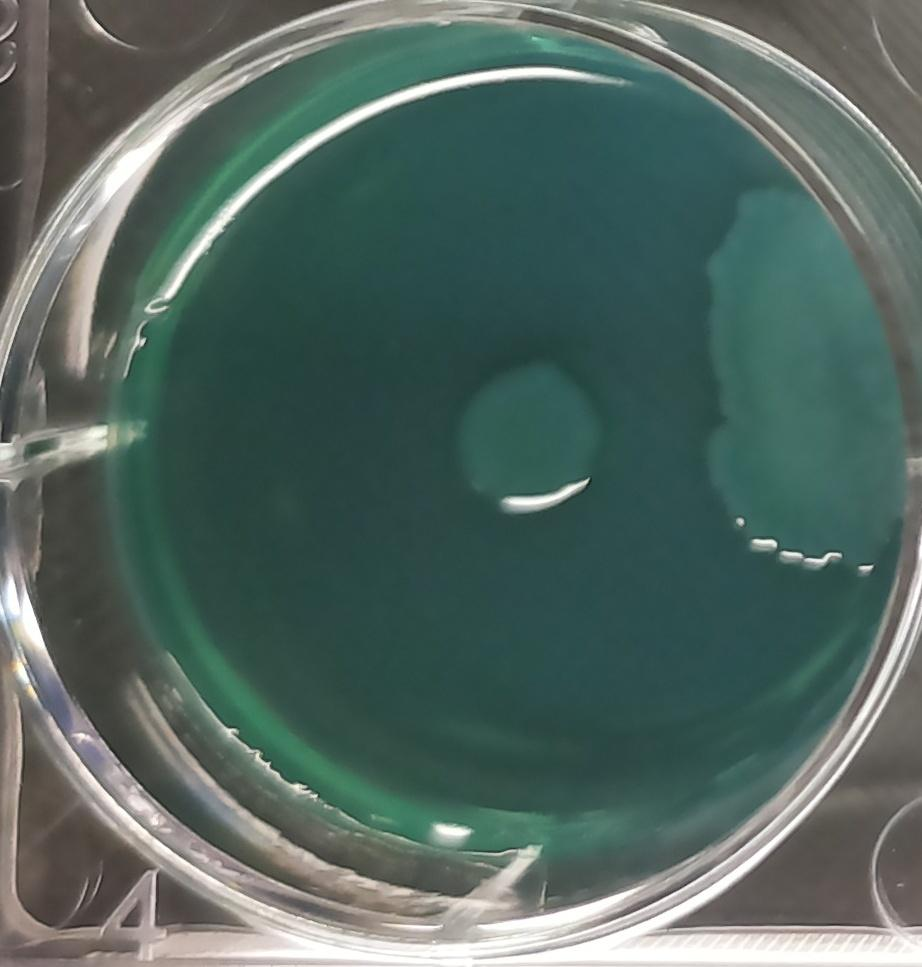vproteolyticus: (687, 165, 908, 580), (445, 350, 607, 521)
